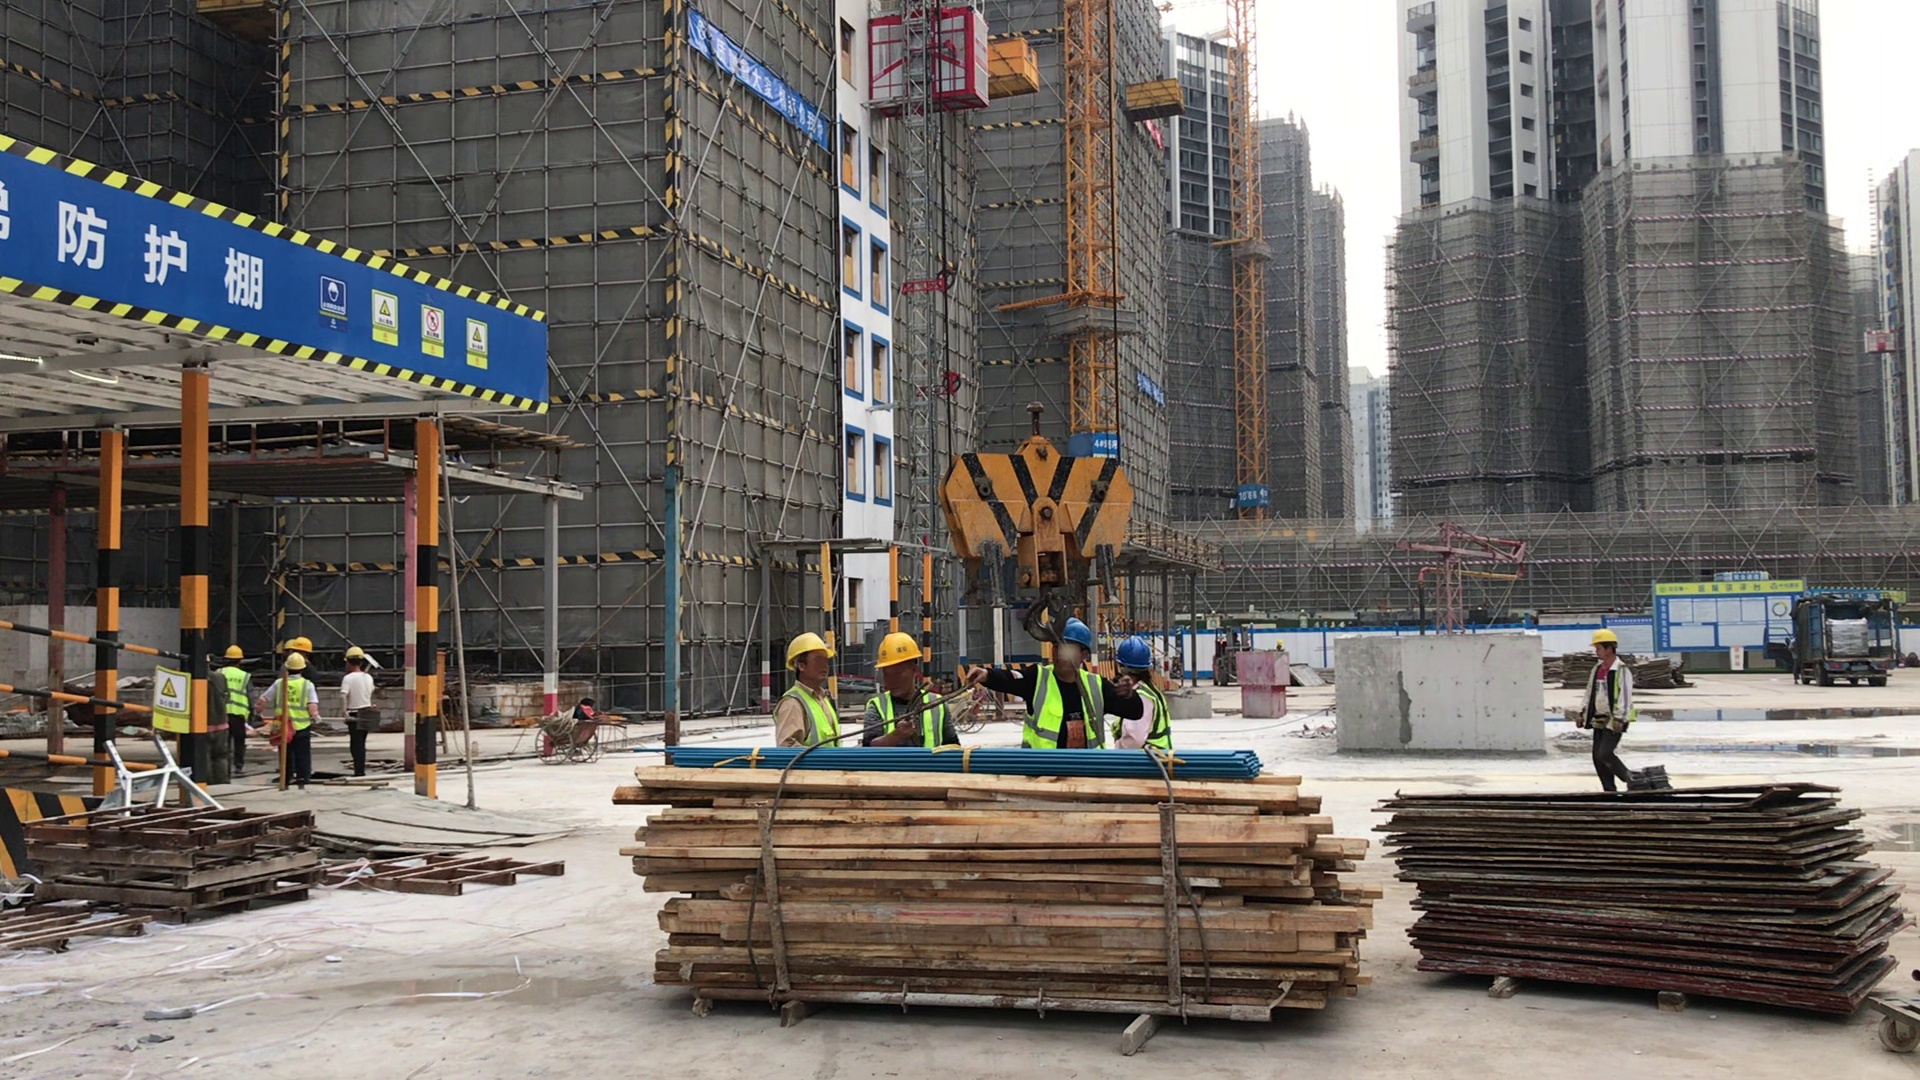board: (1386, 784, 1904, 1016)
handcart: (522, 705, 631, 770), (943, 679, 989, 734)
helmet: (784, 631, 836, 664), (874, 633, 929, 662), (1119, 635, 1153, 670), (1052, 622, 1095, 645), (285, 636, 313, 655), (1590, 630, 1619, 649), (225, 643, 249, 662), (285, 650, 306, 670), (345, 642, 362, 658)
hook: (942, 404, 1136, 623)
person: (1003, 620, 1118, 749), (1575, 627, 1642, 788), (864, 632, 955, 748), (777, 628, 849, 748), (273, 634, 321, 789), (1117, 631, 1175, 751), (218, 640, 256, 783), (338, 642, 374, 784)
slogan: (311, 273, 504, 369), (692, 16, 829, 149), (148, 663, 196, 734), (1236, 478, 1268, 507)
vest: (1024, 666, 1104, 749), (868, 694, 946, 748), (783, 685, 841, 745), (1129, 682, 1174, 753), (276, 678, 310, 733), (224, 669, 249, 725)
wood: (614, 764, 1369, 1021)
